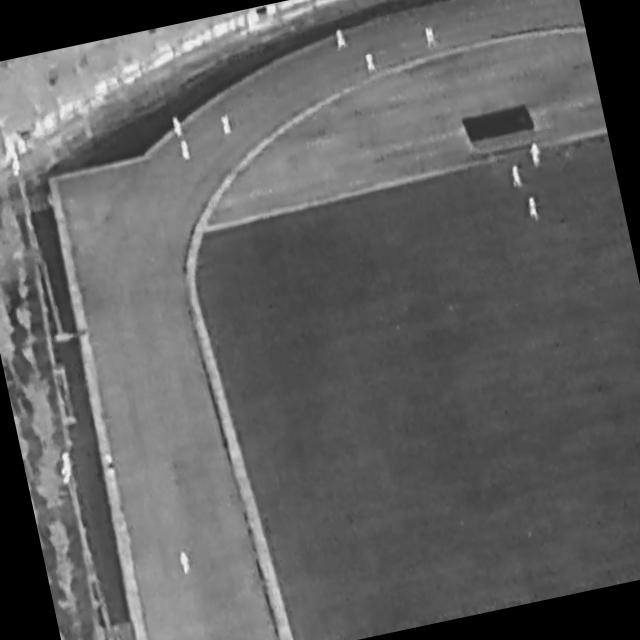person: (529, 142, 545, 170), (178, 550, 193, 576), (510, 164, 524, 189), (527, 197, 540, 222), (172, 115, 185, 139), (425, 26, 438, 50), (334, 28, 347, 52), (221, 115, 234, 136), (180, 141, 192, 162), (106, 455, 117, 476), (366, 52, 377, 73)
